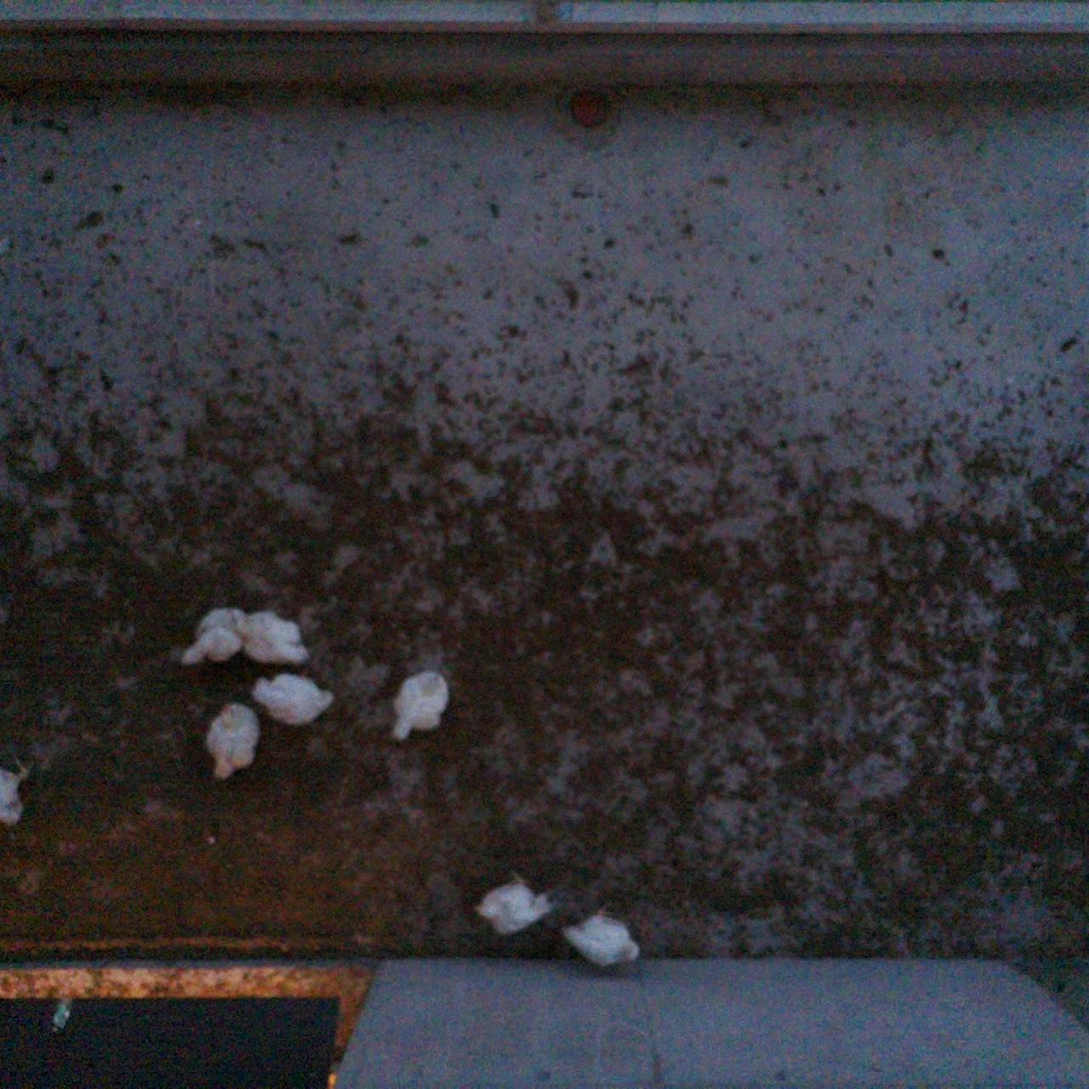chicken: (561, 907, 647, 975), (201, 701, 269, 786), (247, 665, 335, 730), (231, 602, 313, 671), (180, 601, 253, 677), (475, 871, 556, 939), (389, 665, 456, 743), (0, 756, 35, 835)
